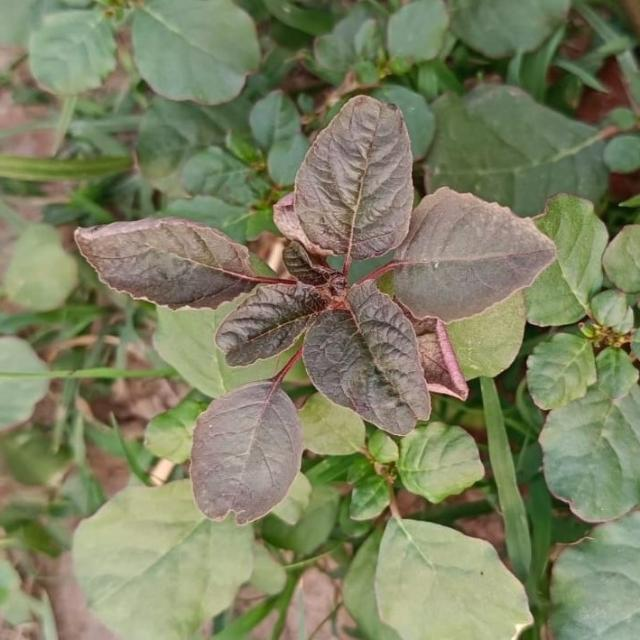plant: (75, 95, 555, 523)
